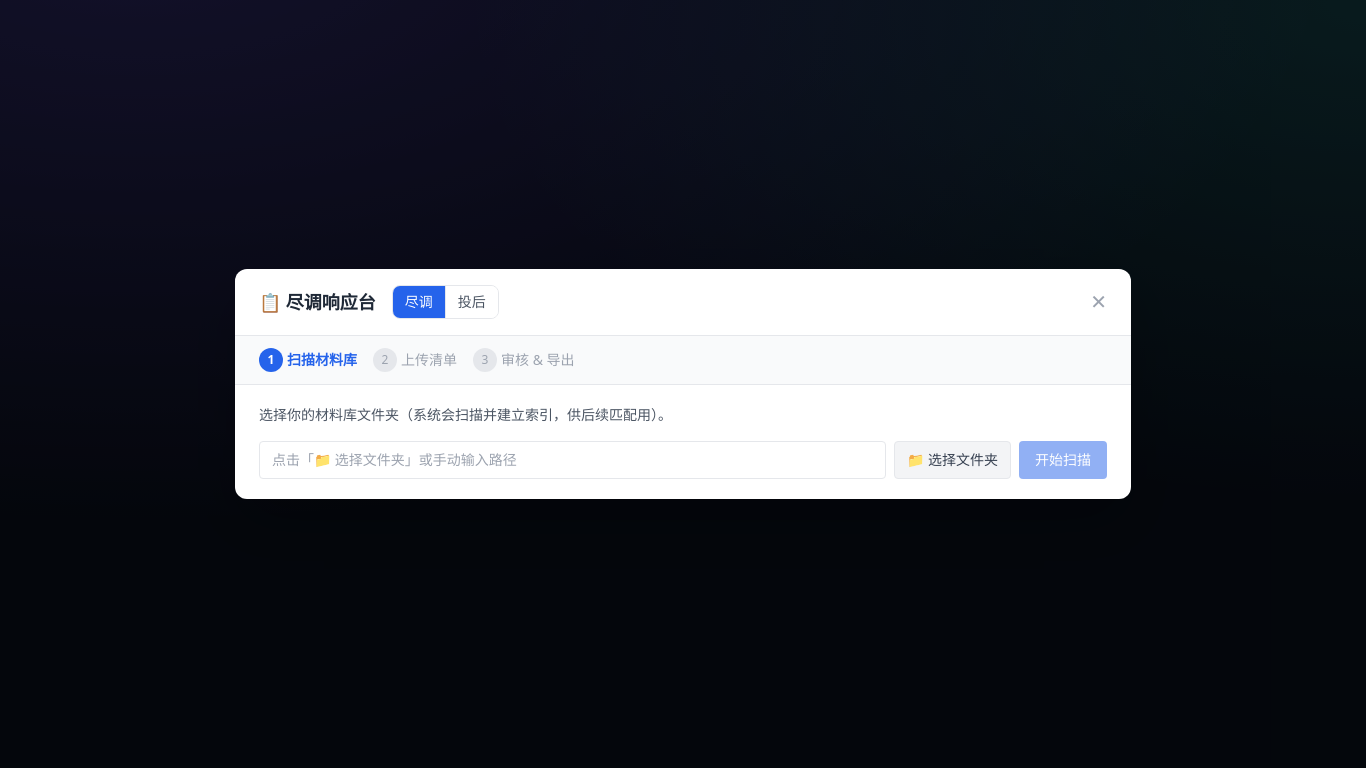
DueDiligenceWizard 布局徽章 › per_institution 扫描完成显示机构数徽章
Type "/材料库" into the field with placeholder "点击「📁 选择文件夹」或手动输入路径". click: (573, 460)
box: [259,441,886,479]
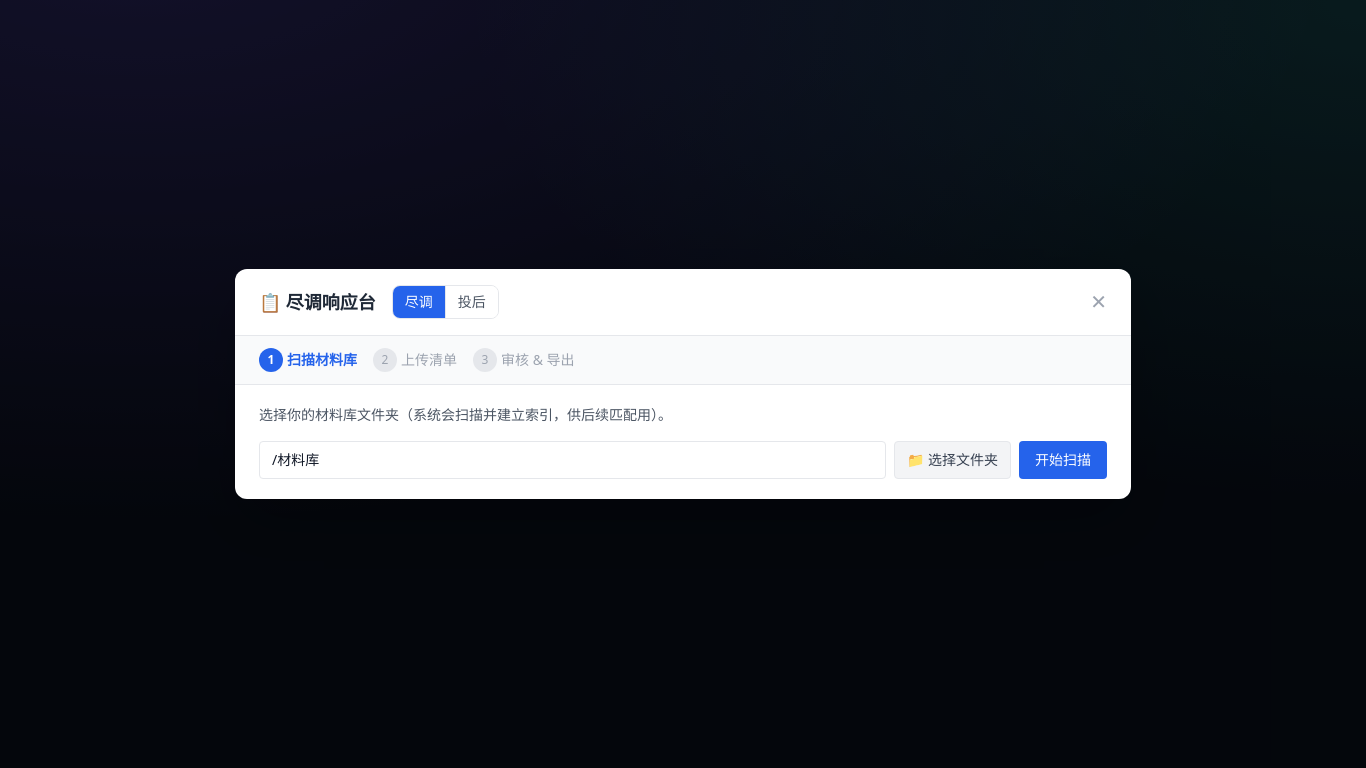
Click the button "开始扫描". click: click(1063, 460)
box: [1019,441,1107,479]
Wait 1600 ms
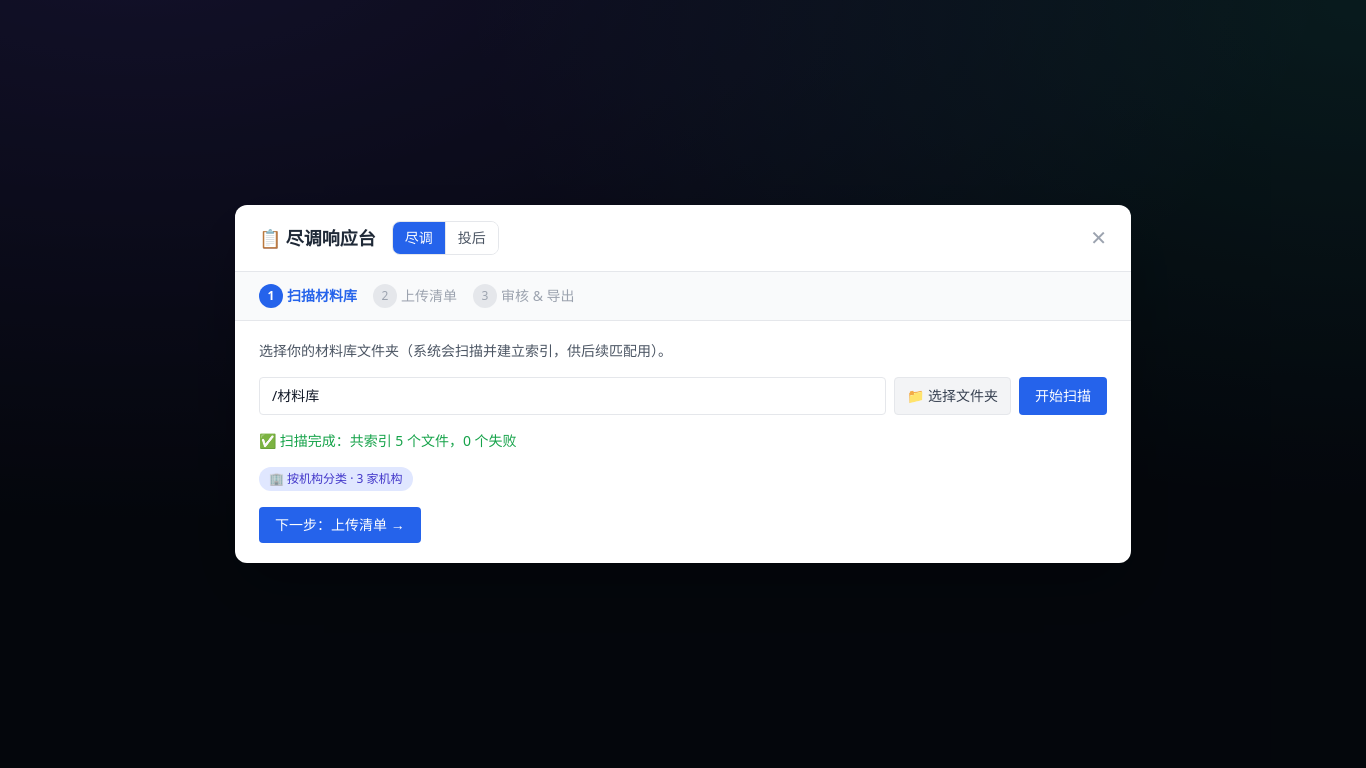
Result: the text "🏢 按机构分类 · 3 家机构" is shown at [259,467,413,491]
